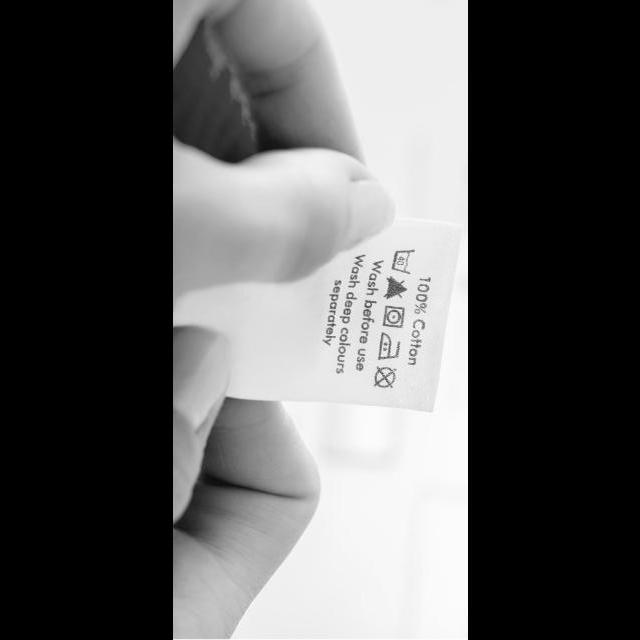40C: (390, 249, 416, 275)
DN_bleach: (382, 275, 408, 301)
DN_dry_clean: (372, 366, 398, 388)
iron_medium: (378, 331, 402, 361)
tumble_dry_low: (382, 305, 406, 329)
